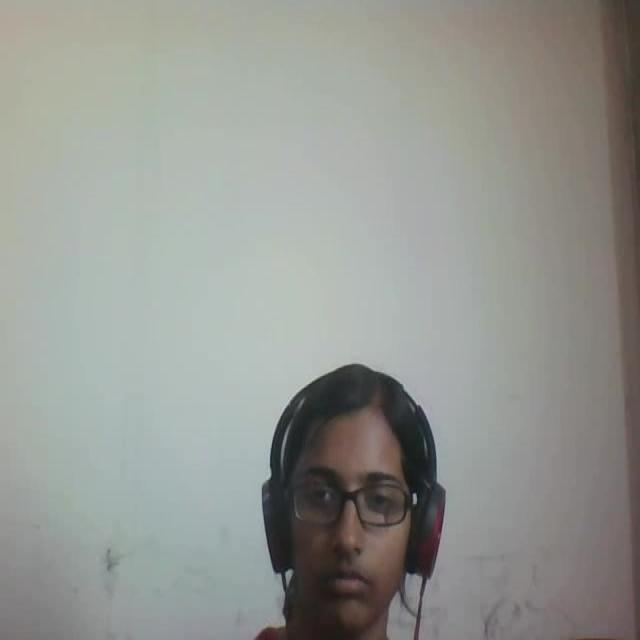Engaged: (214, 333, 501, 640)
